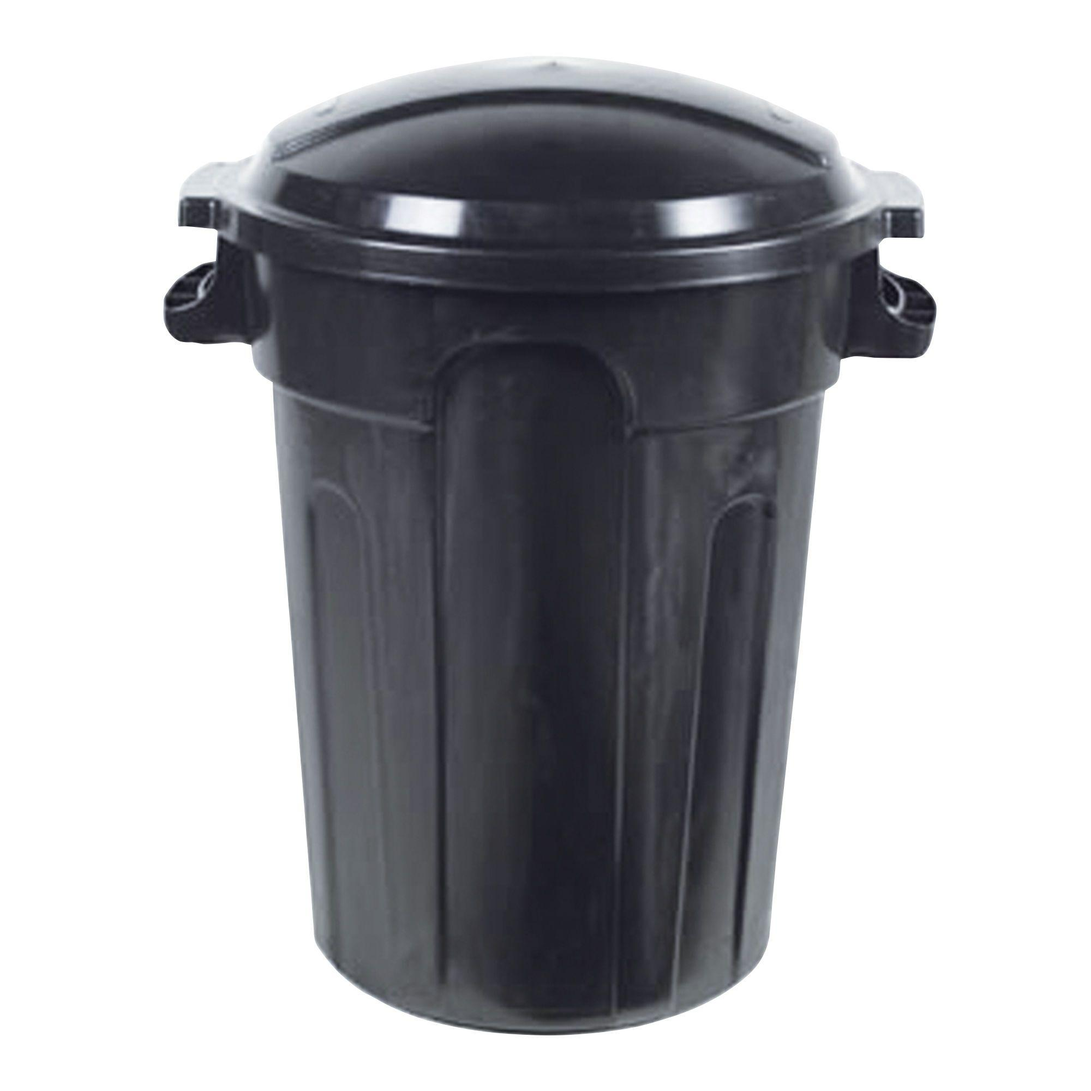garbage container: (156, 45, 944, 1043)
